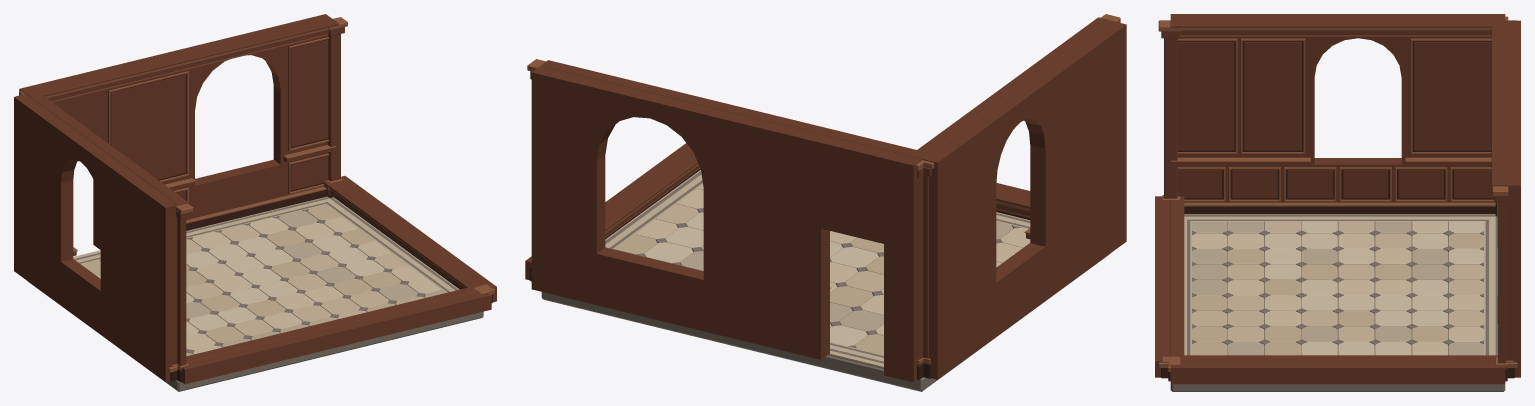
File: main1f_f04_architecture.glb
3 renders of one model, left to right at view 1: azimuth 30°, elevation 25°; view 2: azimuth 150°, elevation 25°; view 3: azimuth 270°, elevation 25°, orthographic. The views are drawn at different scales.
Visible parts, largest first — view 1: main1f_f04_left_Wall_Solid_00, main1f_f04_Floor, main1f_f04_rear_Wall_Solid_00, main1f_f04_front_Cutedge_Solid_00, main1f_f04_rear_Wall_UpperPanel_00_1_0_Field, main1f_f04_rear_Wall_UpperPanel_00_2_0_Field, main1f_f04_rear_Wall_Cornice_00_3_0, main1f_f04_Floor_Foundation, main1f_f04_front_Cutedge_Cornice_00_3_0, main1f_f04_right_Cutedge_Solid_00, Pilaster_Shaft_001, main1f_f04_right_Cutedge_Cornice_00_3_0 (+12 smaller); view 2: main1f_f04_rear_Wall_Solid_00, main1f_f04_left_Wall_Solid_00, main1f_f04_Floor, main1f_f04_Floor_Foundation, main1f_f04_rear_Wall_Cornice_00_3_0, main1f_f04_left_Wall_Cornice_00_3_0, main1f_f04_right_Cutedge_Solid_00, main1f_f04_right_Cutedge_Cornice_00_3_0, Pilaster_Shaft, Pilaster_Shaft_003, main1f_f04_Floor_Diamond_inlays; view 3: main1f_f04_Floor, main1f_f04_left_Wall_Solid_00, main1f_f04_left_Wall_UpperPanel_00_1_0_Field, main1f_f04_right_Cutedge_Solid_00, main1f_f04_left_Wall_UpperPanel_00_0_1_Field, main1f_f04_left_Wall_UpperPanel_00_0_0_Field, main1f_f04_rear_Wall_Solid_00, main1f_f04_left_Wall_Skirting_00_0, main1f_f04_Floor_Foundation, main1f_f04_front_Cutedge_Solid_00, main1f_f04_left_Wall_Cornice_00_3_0, main1f_f04_rear_Wall_Cornice_00_3_0 (+32 smaller).
Boxes of the visible parts, left/top/right/bottom form: main1f_f04_left_Wall_Solid_00: left=14, top=94, right=177, bottom=381; main1f_f04_Floor: left=73, top=196, right=459, bottom=356; main1f_f04_rear_Wall_Solid_00: left=19, top=14, right=331, bottom=249; main1f_f04_front_Cutedge_Solid_00: left=182, top=291, right=491, bottom=384; main1f_f04_rear_Wall_UpperPanel_00_1_0_Field: left=111, top=74, right=185, bottom=179; main1f_f04_rear_Wall_UpperPanel_00_2_0_Field: left=291, top=40, right=328, bottom=146; main1f_f04_rear_Wall_Cornice_00_3_0: left=31, top=19, right=338, bottom=97; main1f_f04_Floor_Foundation: left=29, top=282, right=483, bottom=391; main1f_f04_front_Cutedge_Cornice_00_3_0: left=186, top=285, right=479, bottom=362; main1f_f04_right_Cutedge_Solid_00: left=338, top=176, right=496, bottom=302; Pilaster_Shaft_001: left=327, top=34, right=340, bottom=181; main1f_f04_right_Cutedge_Cornice_00_3_0: left=323, top=181, right=477, bottom=287; main1f_f04_rear_Wall_Solid_00: left=531, top=66, right=922, bottom=382; main1f_f04_left_Wall_Solid_00: left=922, top=21, right=1126, bottom=379; main1f_f04_Floor: left=605, top=170, right=1030, bottom=368; main1f_f04_Floor_Foundation: left=541, top=254, right=1109, bottom=391; main1f_f04_rear_Wall_Cornice_00_3_0: left=541, top=60, right=928, bottom=158; main1f_f04_left_Wall_Cornice_00_3_0: left=910, top=17, right=1111, bottom=158; main1f_f04_right_Cutedge_Solid_00: left=525, top=143, right=693, bottom=280; main1f_f04_right_Cutedge_Cornice_00_3_0: left=605, top=152, right=698, bottom=231; Pilaster_Shaft: left=923, top=175, right=928, bottom=358; Pilaster_Shaft_003: left=918, top=175, right=922, bottom=359; main1f_f04_Floor_Diamond_inlays: left=635, top=208, right=1020, bottom=347; main1f_f04_Floor: left=1184, top=214, right=1498, bottom=355; main1f_f04_left_Wall_Solid_00: left=1170, top=14, right=1505, bottom=202; main1f_f04_left_Wall_UpperPanel_00_1_0_Field: left=1414, top=42, right=1491, bottom=150; main1f_f04_right_Cutedge_Solid_00: left=1170, top=361, right=1505, bottom=384; main1f_f04_left_Wall_UpperPanel_00_0_1_Field: left=1244, top=42, right=1301, bottom=150; main1f_f04_left_Wall_UpperPanel_00_0_0_Field: left=1177, top=42, right=1234, bottom=150; main1f_f04_rear_Wall_Solid_00: left=1505, top=20, right=1520, bottom=377; main1f_f04_left_Wall_Skirting_00_0: left=1184, top=206, right=1495, bottom=214; main1f_f04_Floor_Foundation: left=1170, top=384, right=1505, bottom=391; main1f_f04_front_Cutedge_Solid_00: left=1155, top=196, right=1170, bottom=377; main1f_f04_left_Wall_Cornice_00_3_0: left=1170, top=20, right=1504, bottom=27; main1f_f04_rear_Wall_Cornice_00_3_0: left=1491, top=20, right=1505, bottom=186.
Size of the model in its own units: 7.56 by 4.11 by 6.56.
